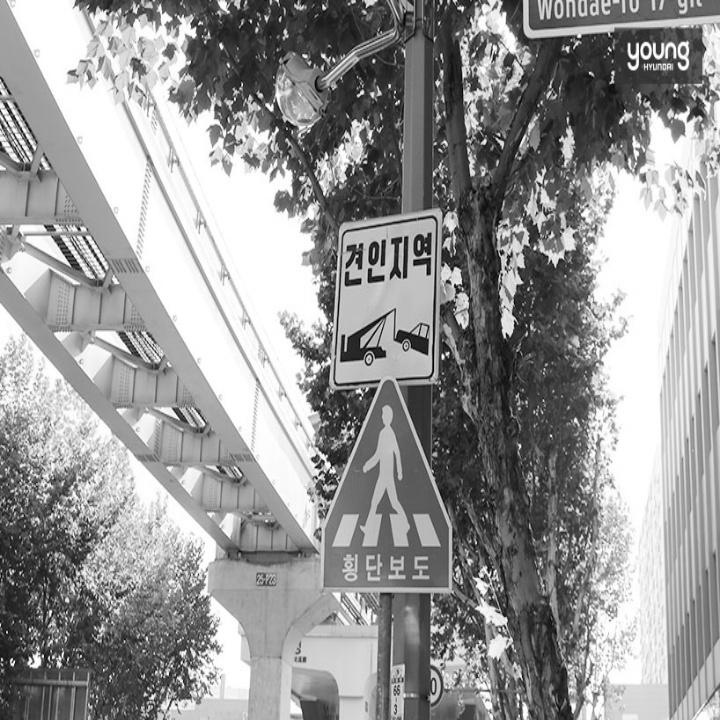cross: (319, 396, 440, 554)
